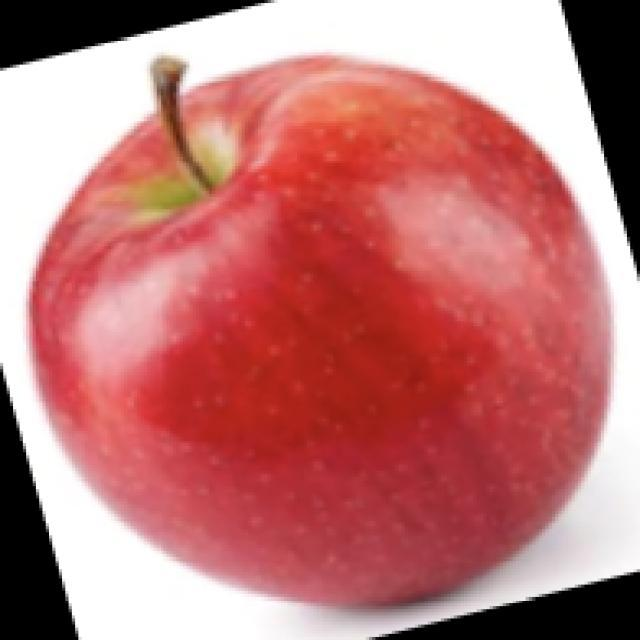Fresh Apple: (33, 58, 610, 605)
